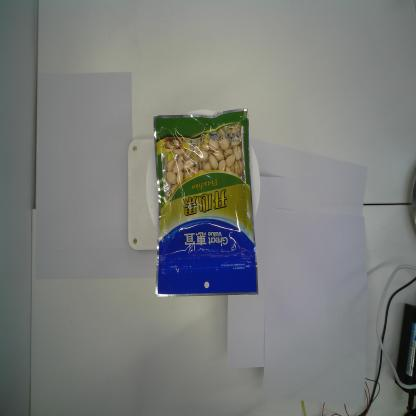Dried Fruit: (152, 104, 260, 301)
